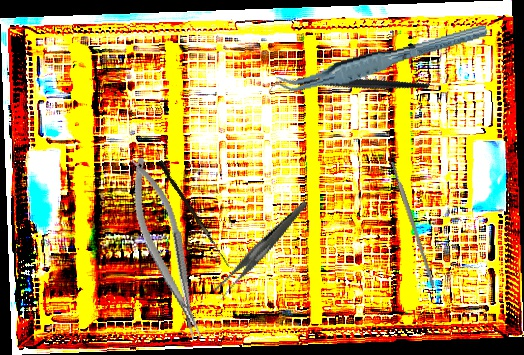Chopper: (269, 28, 431, 145)
Dressing Forceps: (196, 200, 328, 301)
Hook Surgical: (155, 159, 235, 268)
Needle Holder: (121, 152, 210, 346)
Scalpel Handle: (390, 160, 437, 290)
Tissue Forceps: (272, 23, 492, 96)
